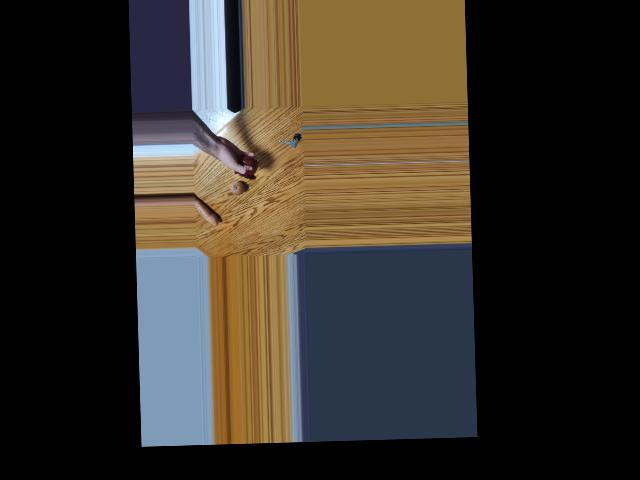onion: (226, 176, 244, 194)
